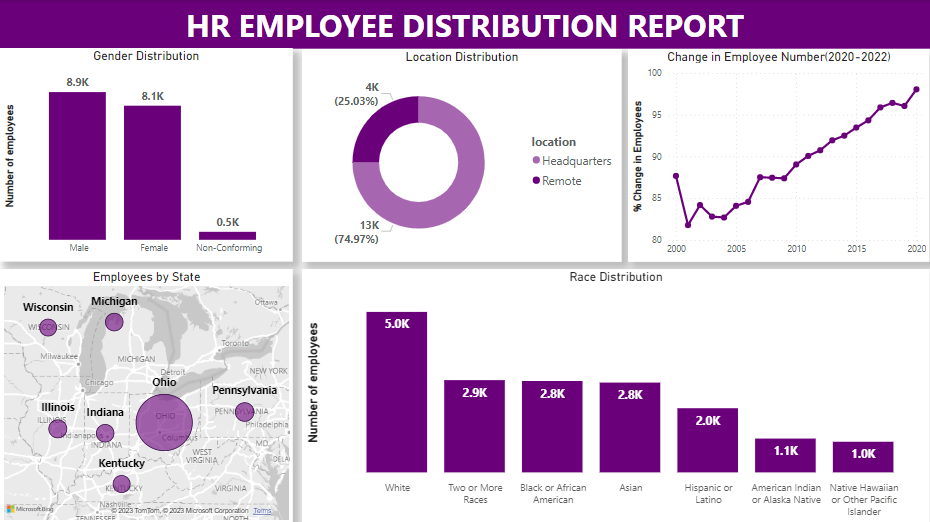

The dashboard page shown, as its layout file describes it:
{"tool":"powerbi","page":{"name":"Page 1","canvas":[1280,720],"ordinal":0},"visuals":[{"type":"textbox","box":[0,0,1280.3,66.5],"z":0},{"type":"clusteredColumnChart","title":"Gender Distribution","fields":{"Category":["gender.gender"],"Y":["Sum(gender.count)"]},"box":[0,66.2,402.5,293.8],"z":1000},{"type":"donutChart","title":"Location Distribution","fields":{"Category":["location.location"],"Y":["Sum(location.count)"]},"box":[415,67.5,440,292.5],"z":2000},{"type":"lineChart","title":"Change in Employee Number(2020-2022)","fields":{"Category":["employee_change.year"],"Y":["Sum(employee_change.net_change_percent)"]},"box":[865,67.5,415,292.5],"z":3000},{"type":"map","title":"Employees by State","fields":{"Size":["Sum(state.count)"],"Category":["state.location_state"]},"box":[0,370.2,403.3,349.6],"z":4000},{"type":"clusteredColumnChart","title":"Race Distribution","fields":{"Category":["race.race"],"Y":["Sum(race.count)"]},"box":[415.7,370.2,864.3,349.6],"z":5000}]}

Visuals, with their boxes in screenshot pixels (x1, y1, x2, y2), scaled from the page's 1280x720 canvas onto the 930x522 screenshot:
textbox: bbox=(0, 0, 929, 48)
"Gender Distribution" clusteredColumnChart: bbox=(0, 48, 292, 261)
"Location Distribution" donutChart: bbox=(302, 49, 621, 261)
"Change in Employee Number(2020-2022)" lineChart: bbox=(628, 49, 929, 261)
"Employees by State" map: bbox=(0, 268, 293, 521)
"Race Distribution" clusteredColumnChart: bbox=(302, 268, 929, 521)
